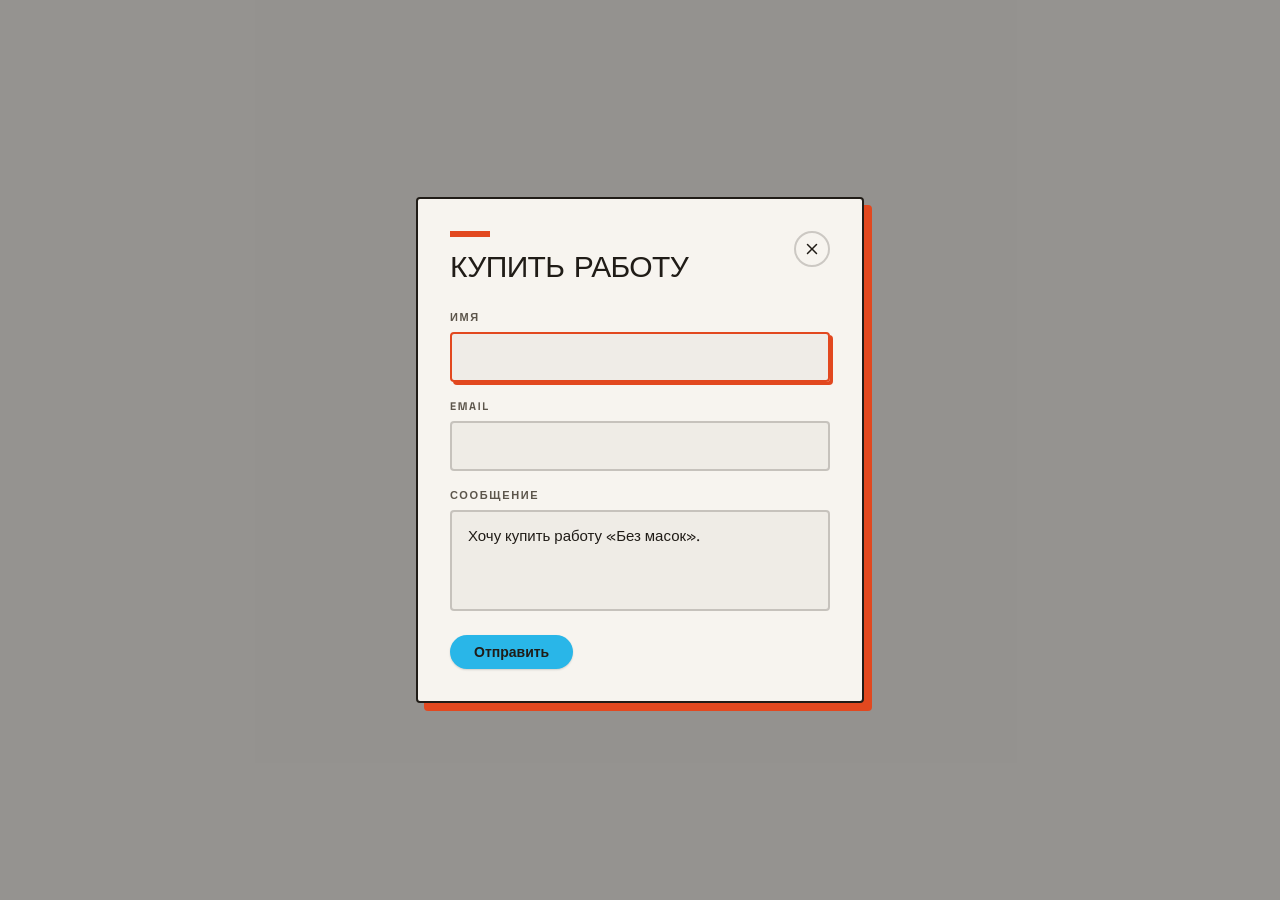
Test: InquiryModal › saves a valid inquiry to storage and shows a confirmation
The width and height of the screenshot is (1280, 900).
Type "Ирина" into the field labelled "Имя" at [640, 357], box [450,332,830,382]
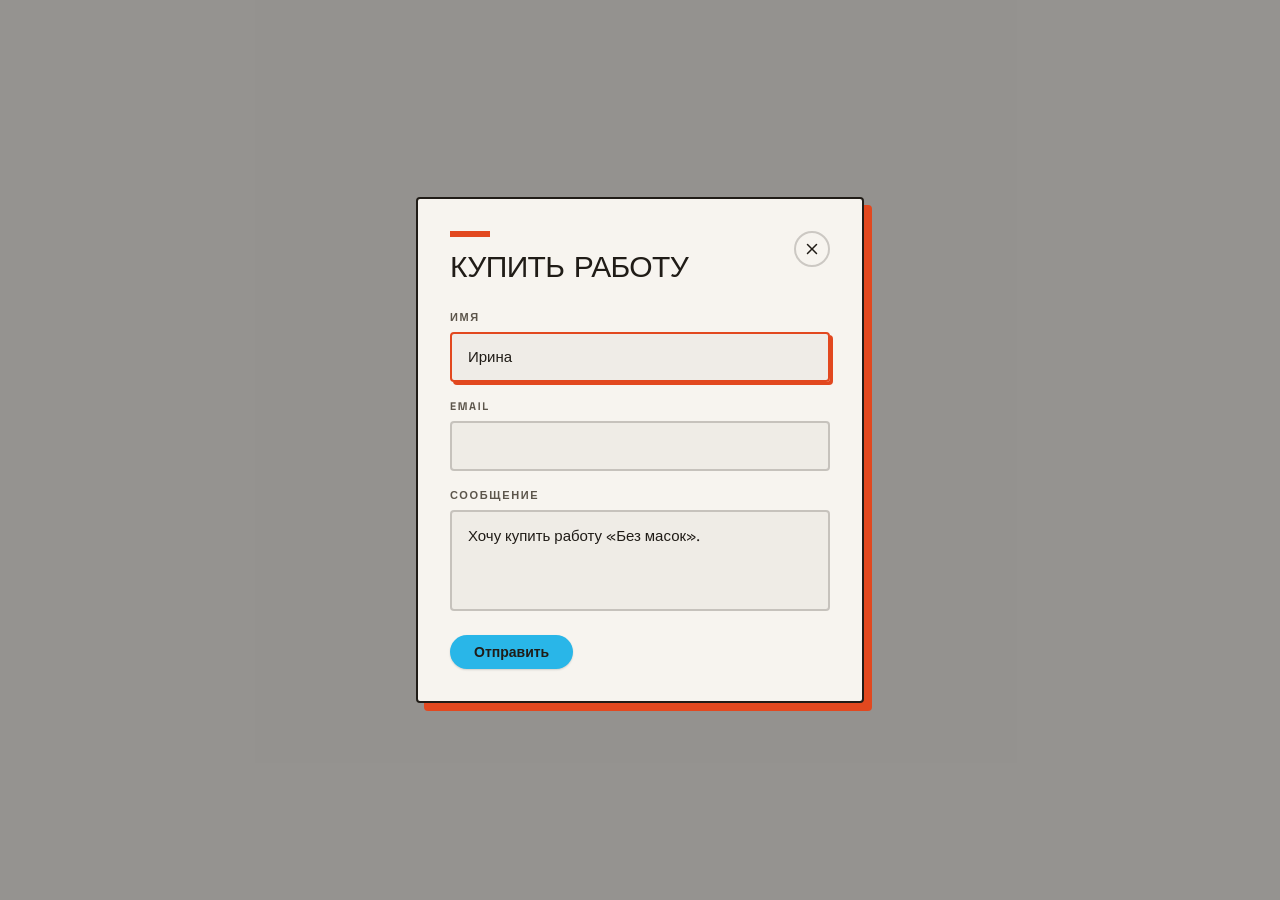
Type "irina@example.com" into the field labelled "Email" at [640, 446], box [450,421,830,471]
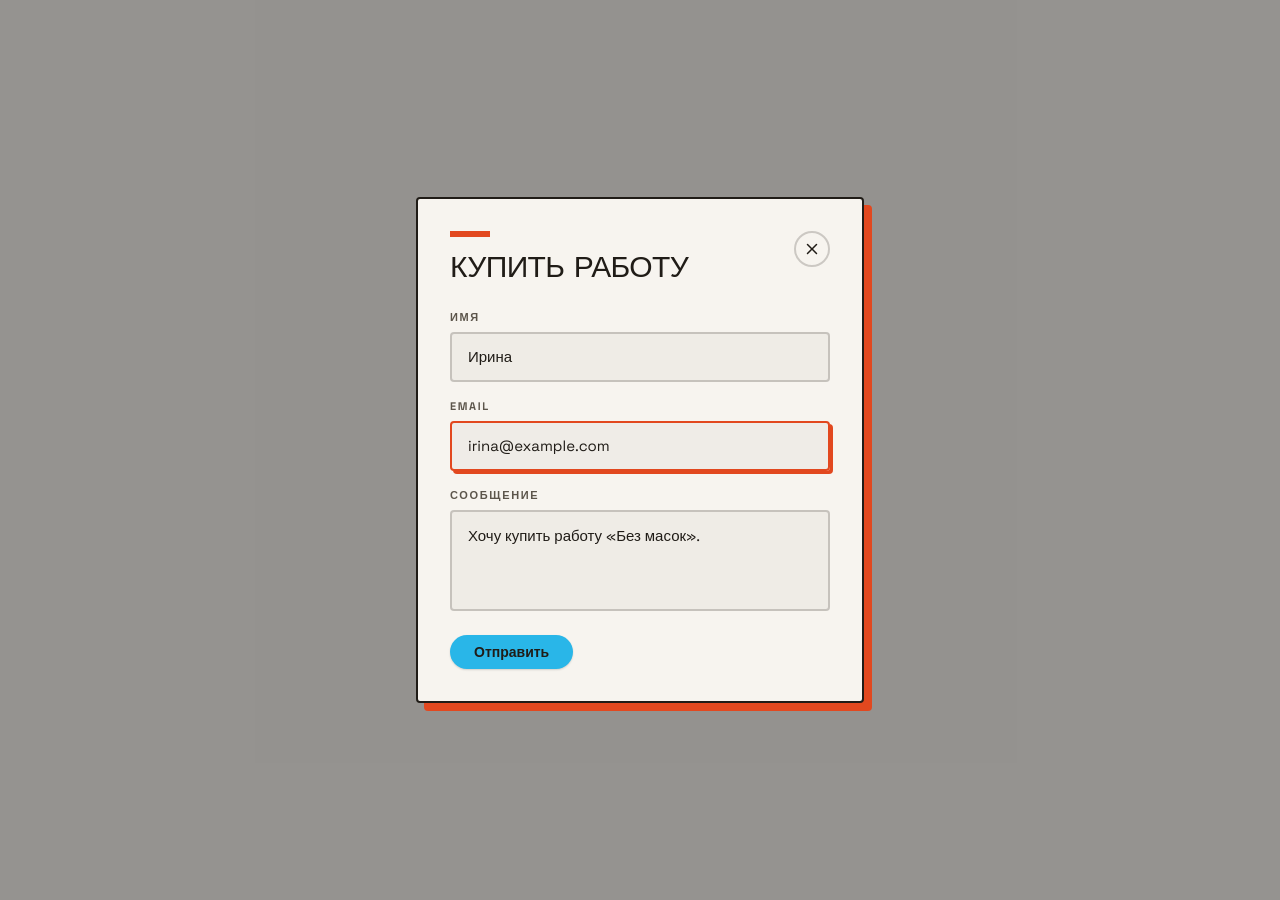
Click the button "Отправить" at [512, 652], box [450,635,573,669]
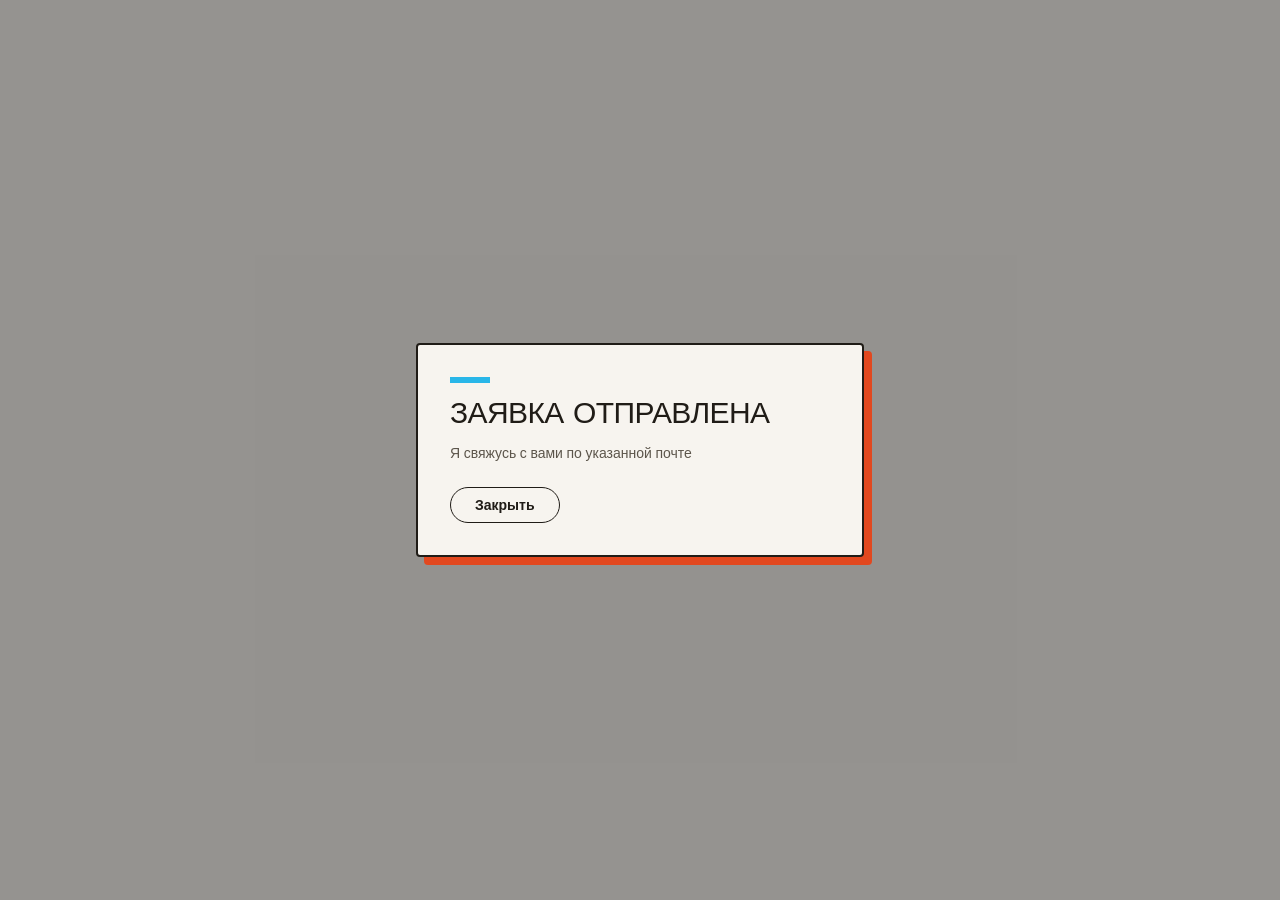
Now the heading "Заявка отправлена" is shown, box [450,397,769,429]
